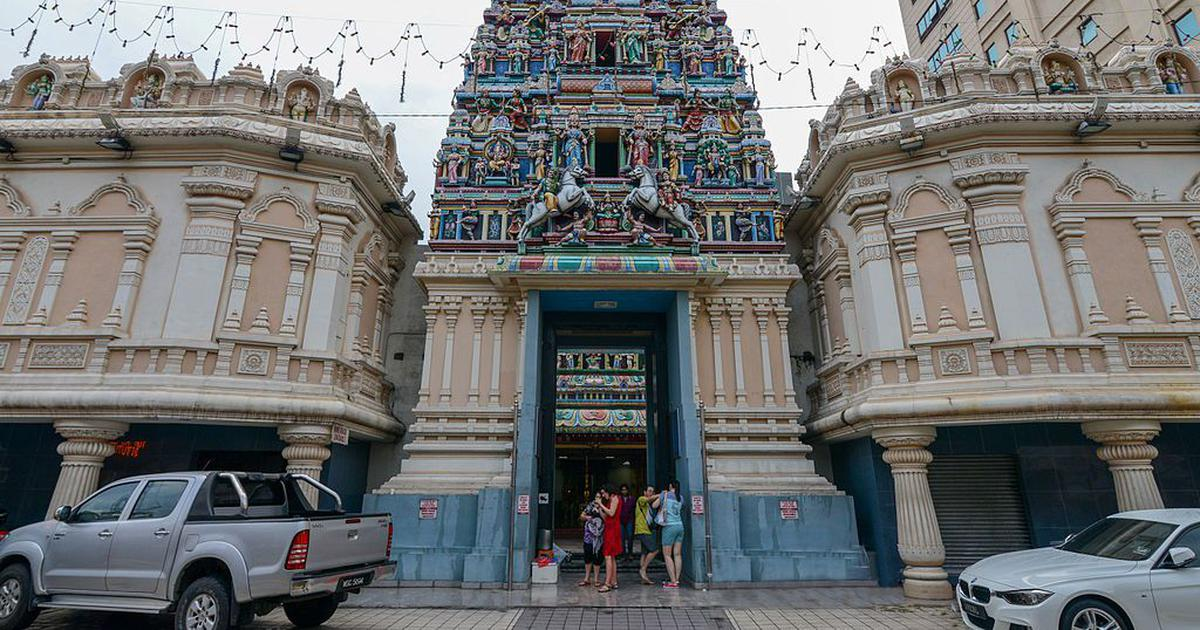Hindu Temple: (384, 1, 817, 582)
